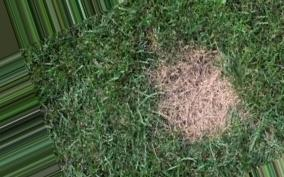patch: (159, 65, 252, 141)
